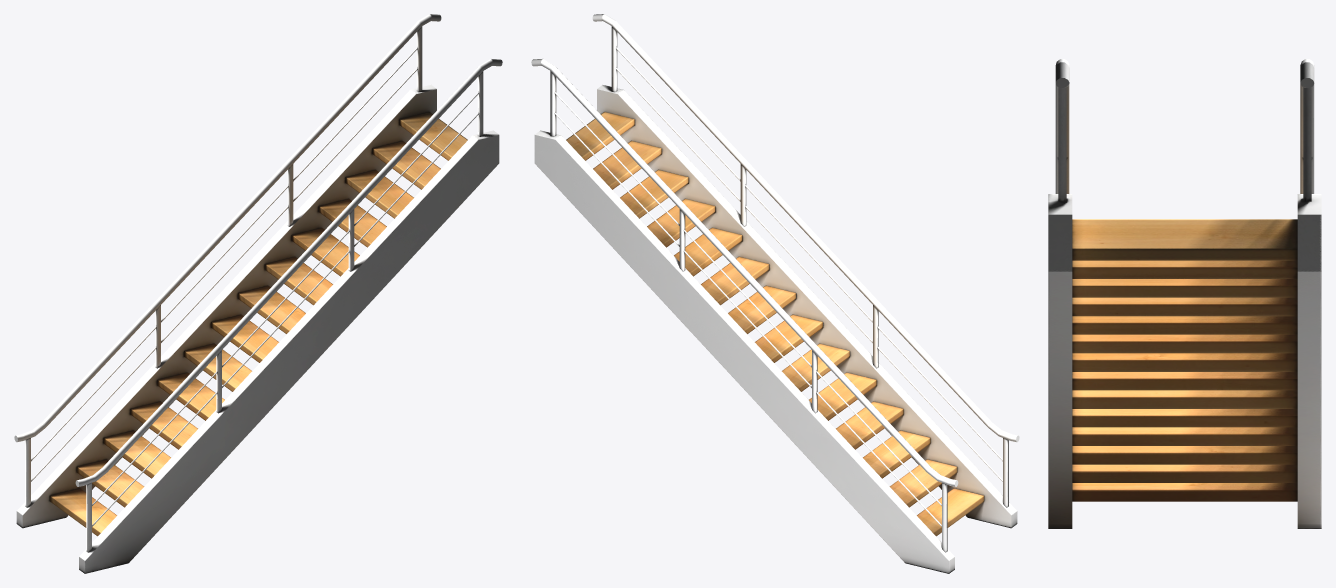
Rendered from staircase.glb.
3 views of the same model, side by side, from view 1: azimuth 30°, elevation 25°; view 2: azimuth 150°, elevation 25°; view 3: azimuth 270°, elevation 25° (orthographic). The views are drawn at different scales.
Parts seen in each view (by area): view 1: Material_001-material; view 2: Material_001-material; view 3: Material_001-material.
Part boxes in pixels (x1,y1,x2,y2): Material_001-material: (14, 14, 502, 573); Material_001-material: (531, 14, 1019, 573); Material_001-material: (1048, 59, 1321, 528).
Size of the model in its own units: 8.56 by 7.95 by 2.39.
1 material, 1 textured.
